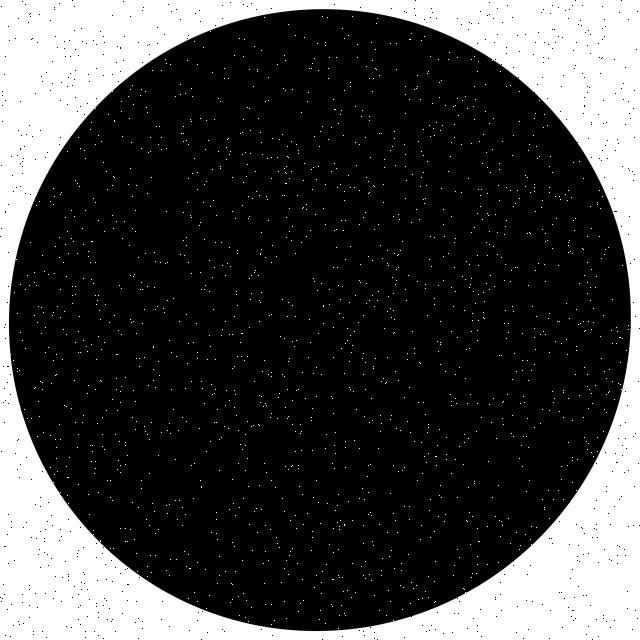Circle: (11, 2, 632, 635)
